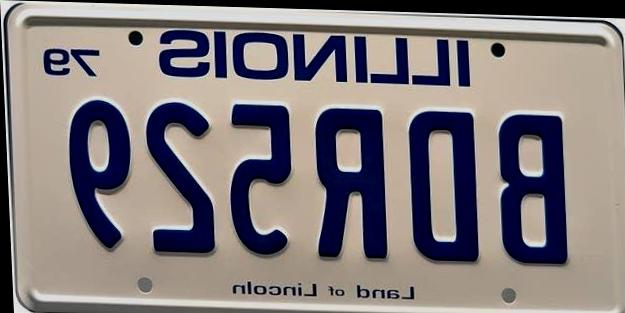License_Plate: (10, 9, 625, 313)
